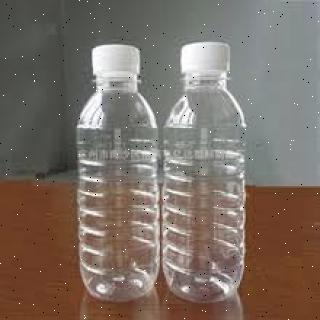Plastic-bottle: (160, 41, 250, 307), (75, 42, 163, 305)
